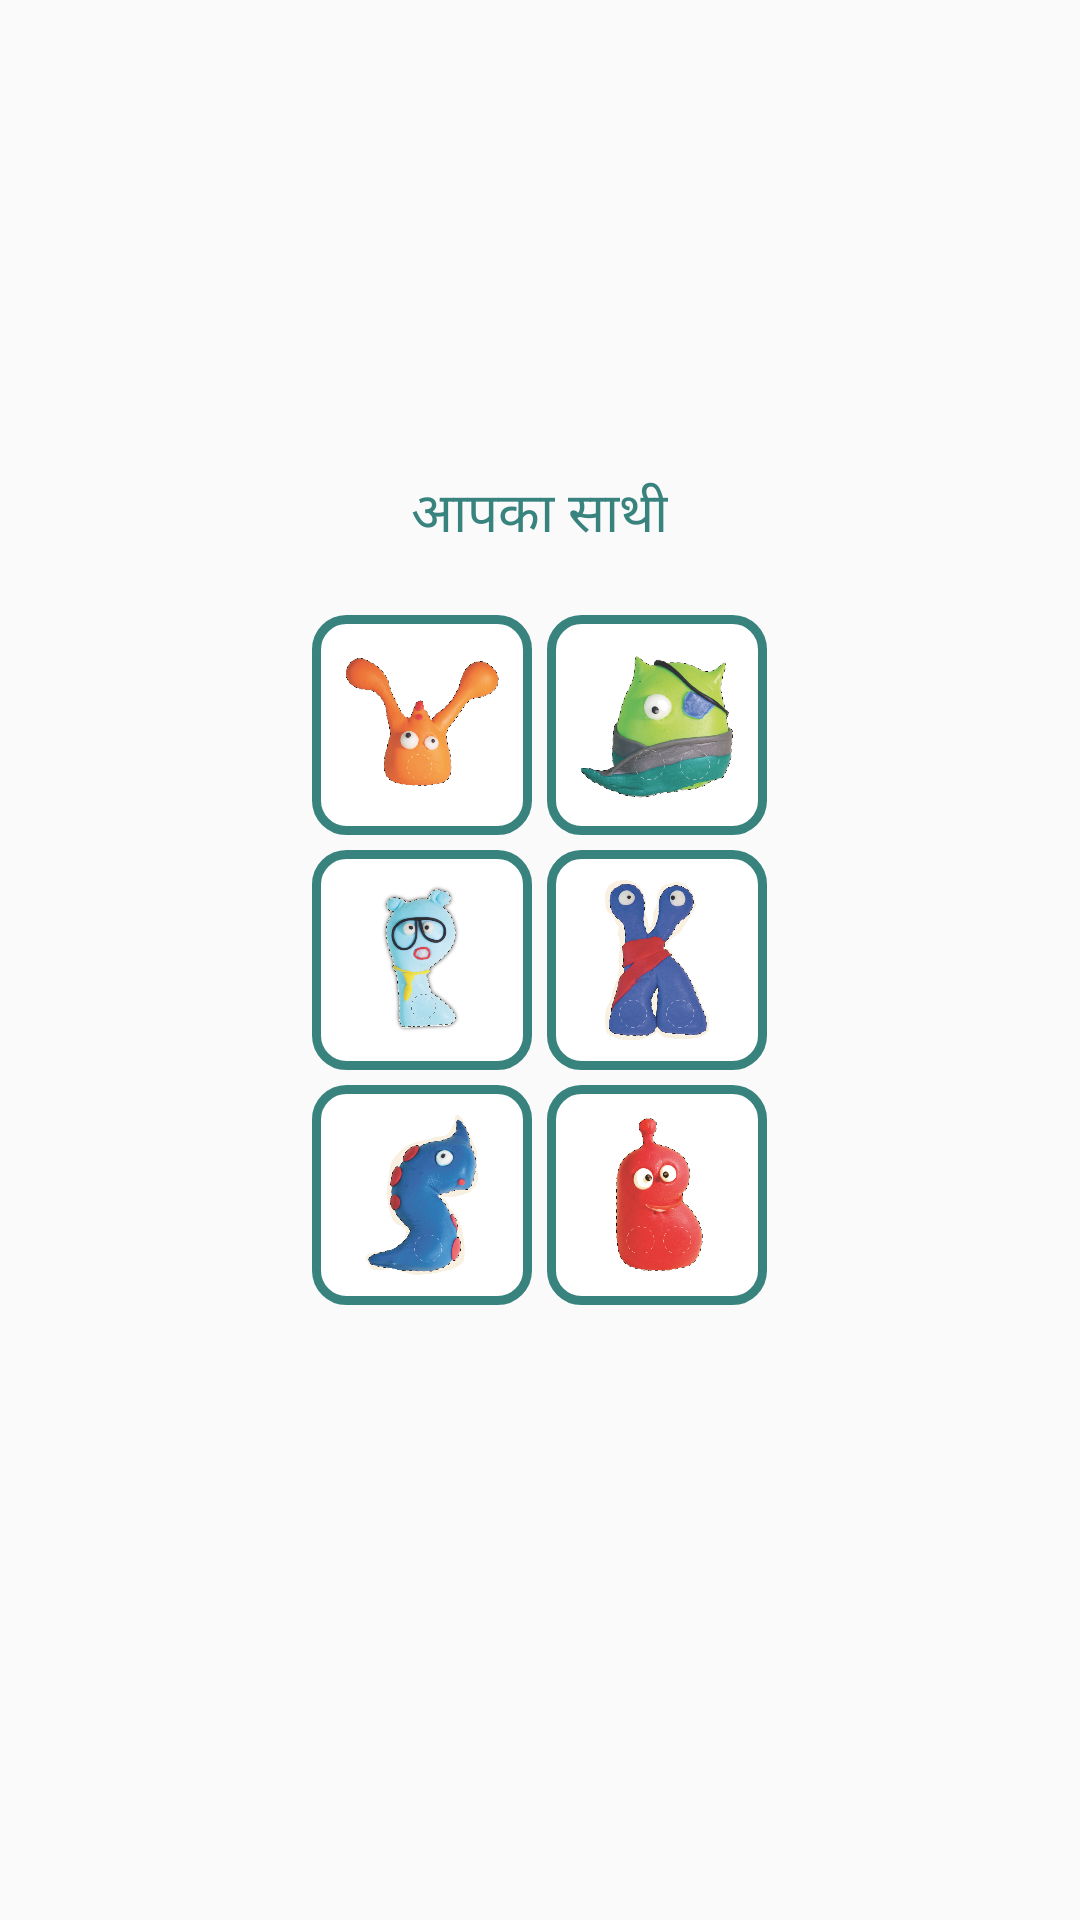

Point at icon controls on the screen. Image size 1080 × 1920, points as point (x, y).
alien: point (422, 725), point (657, 725), point (422, 960), point (657, 960), point (422, 1195), point (657, 1195)
